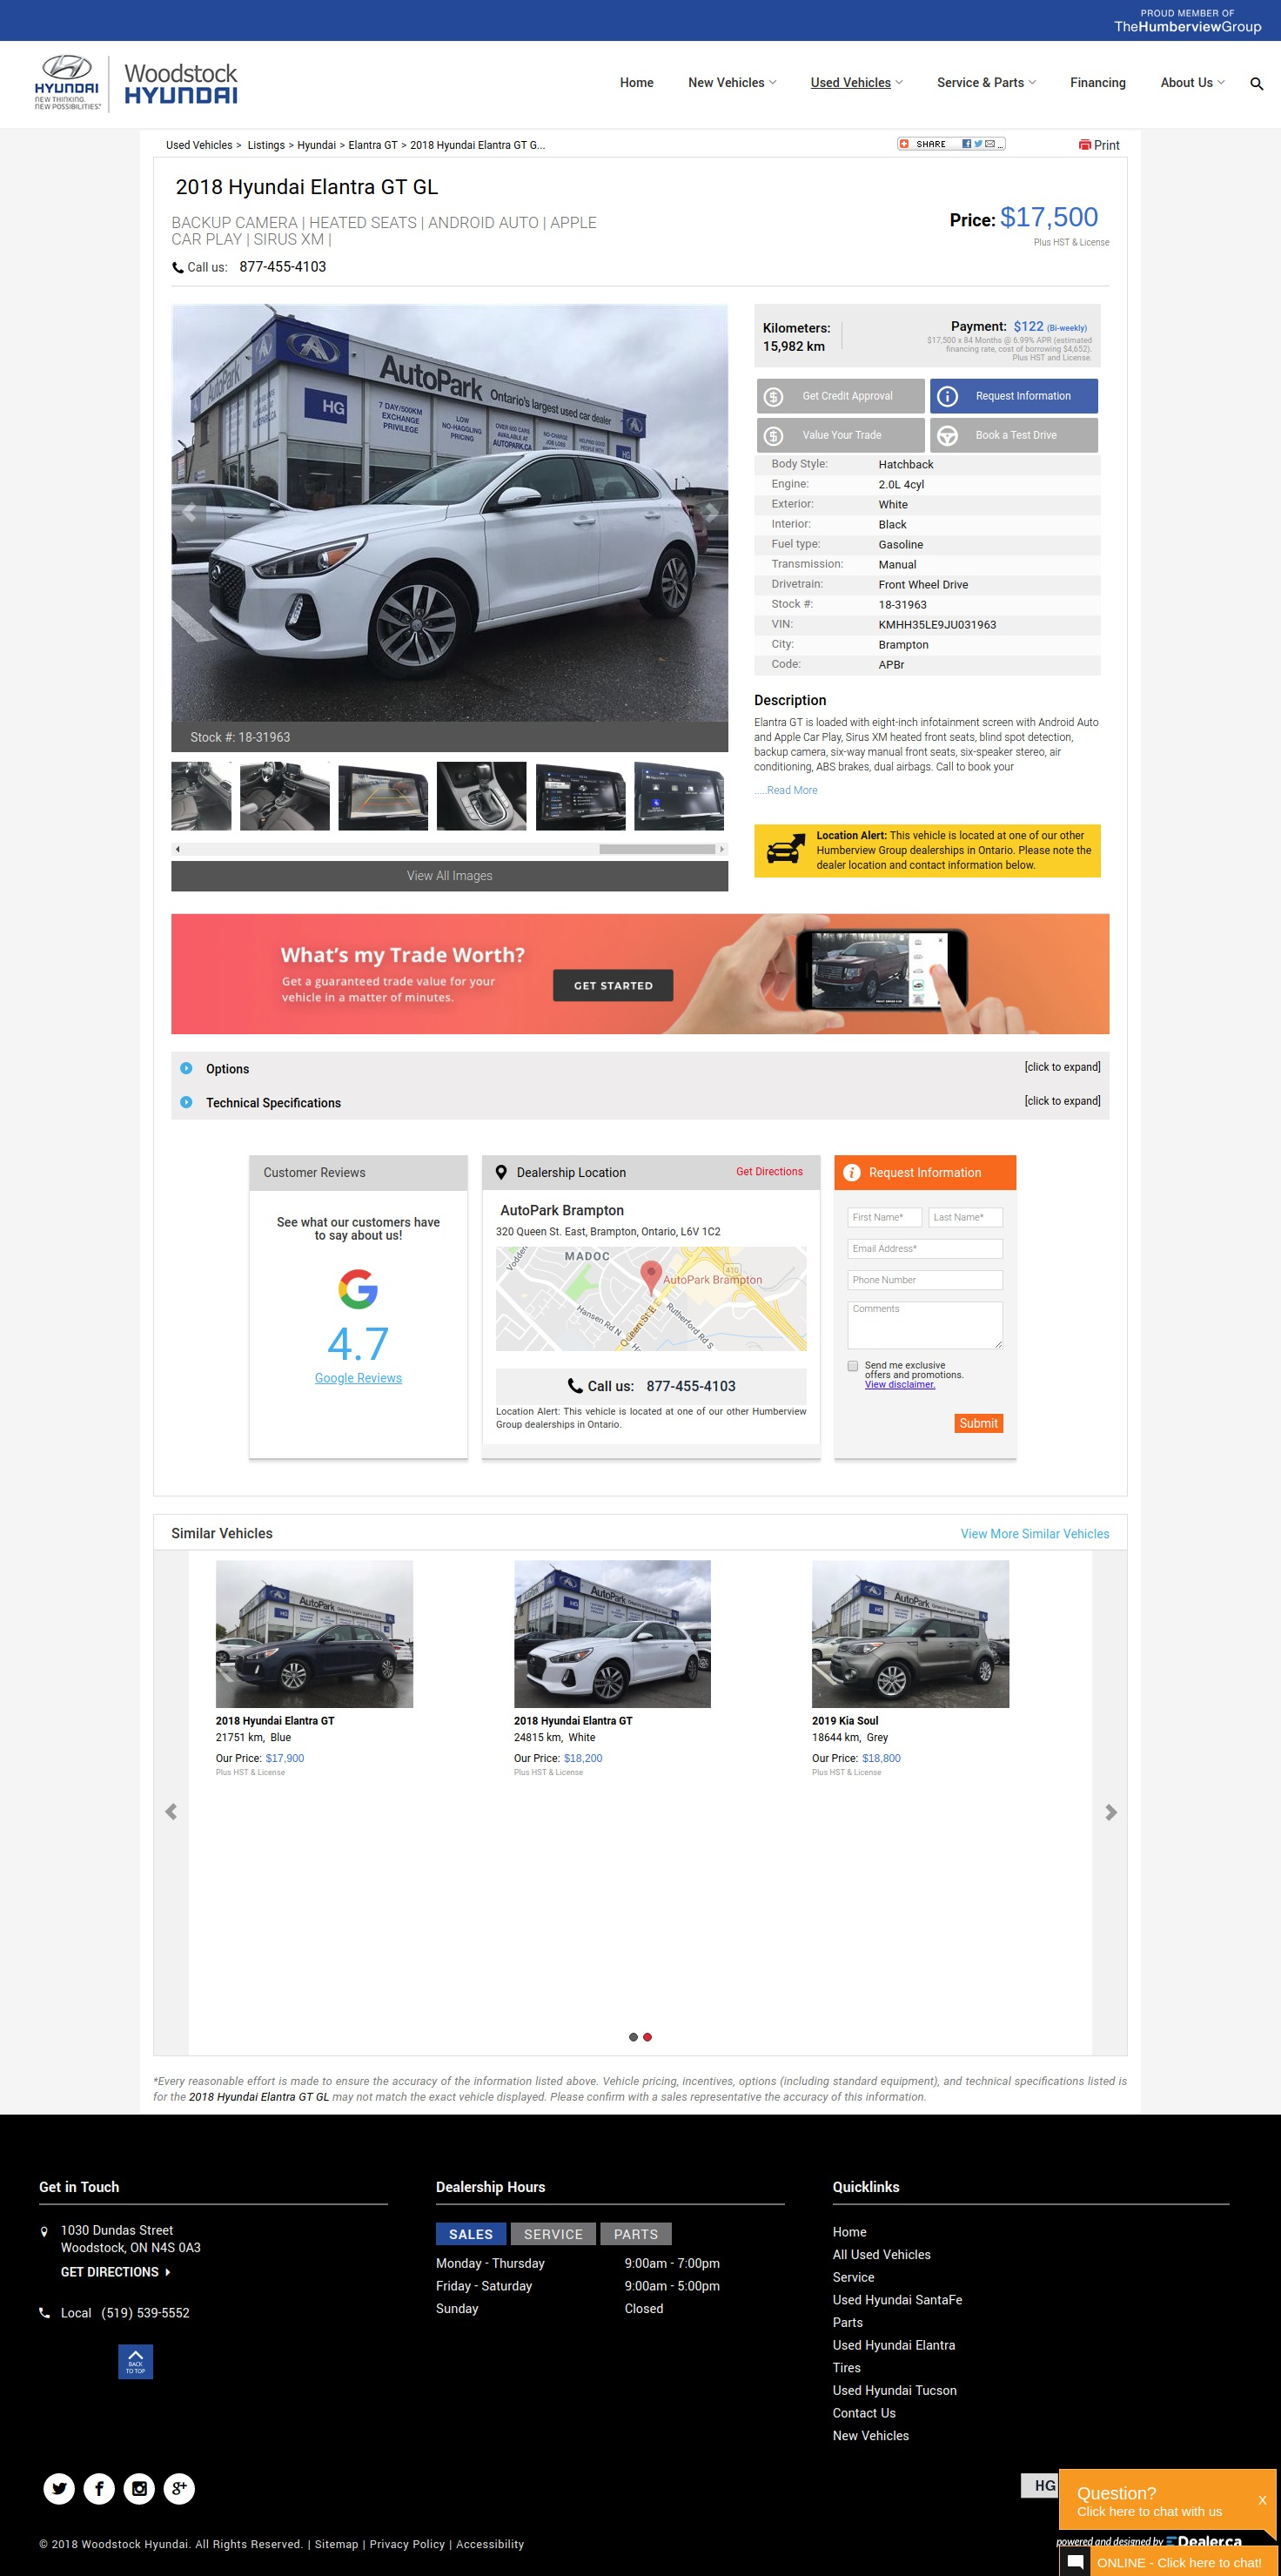car: (721, 846, 724, 854)
